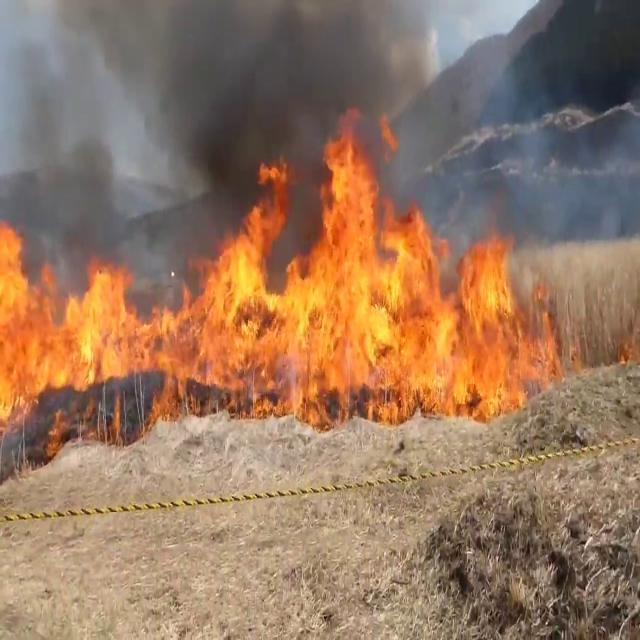Fire: (5, 128, 567, 414)
Smoke: (0, 0, 431, 261), (439, 0, 640, 270)
